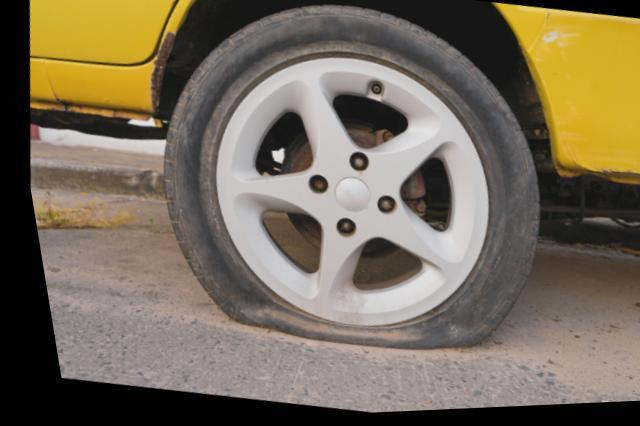tire flat: (157, 6, 536, 357)
